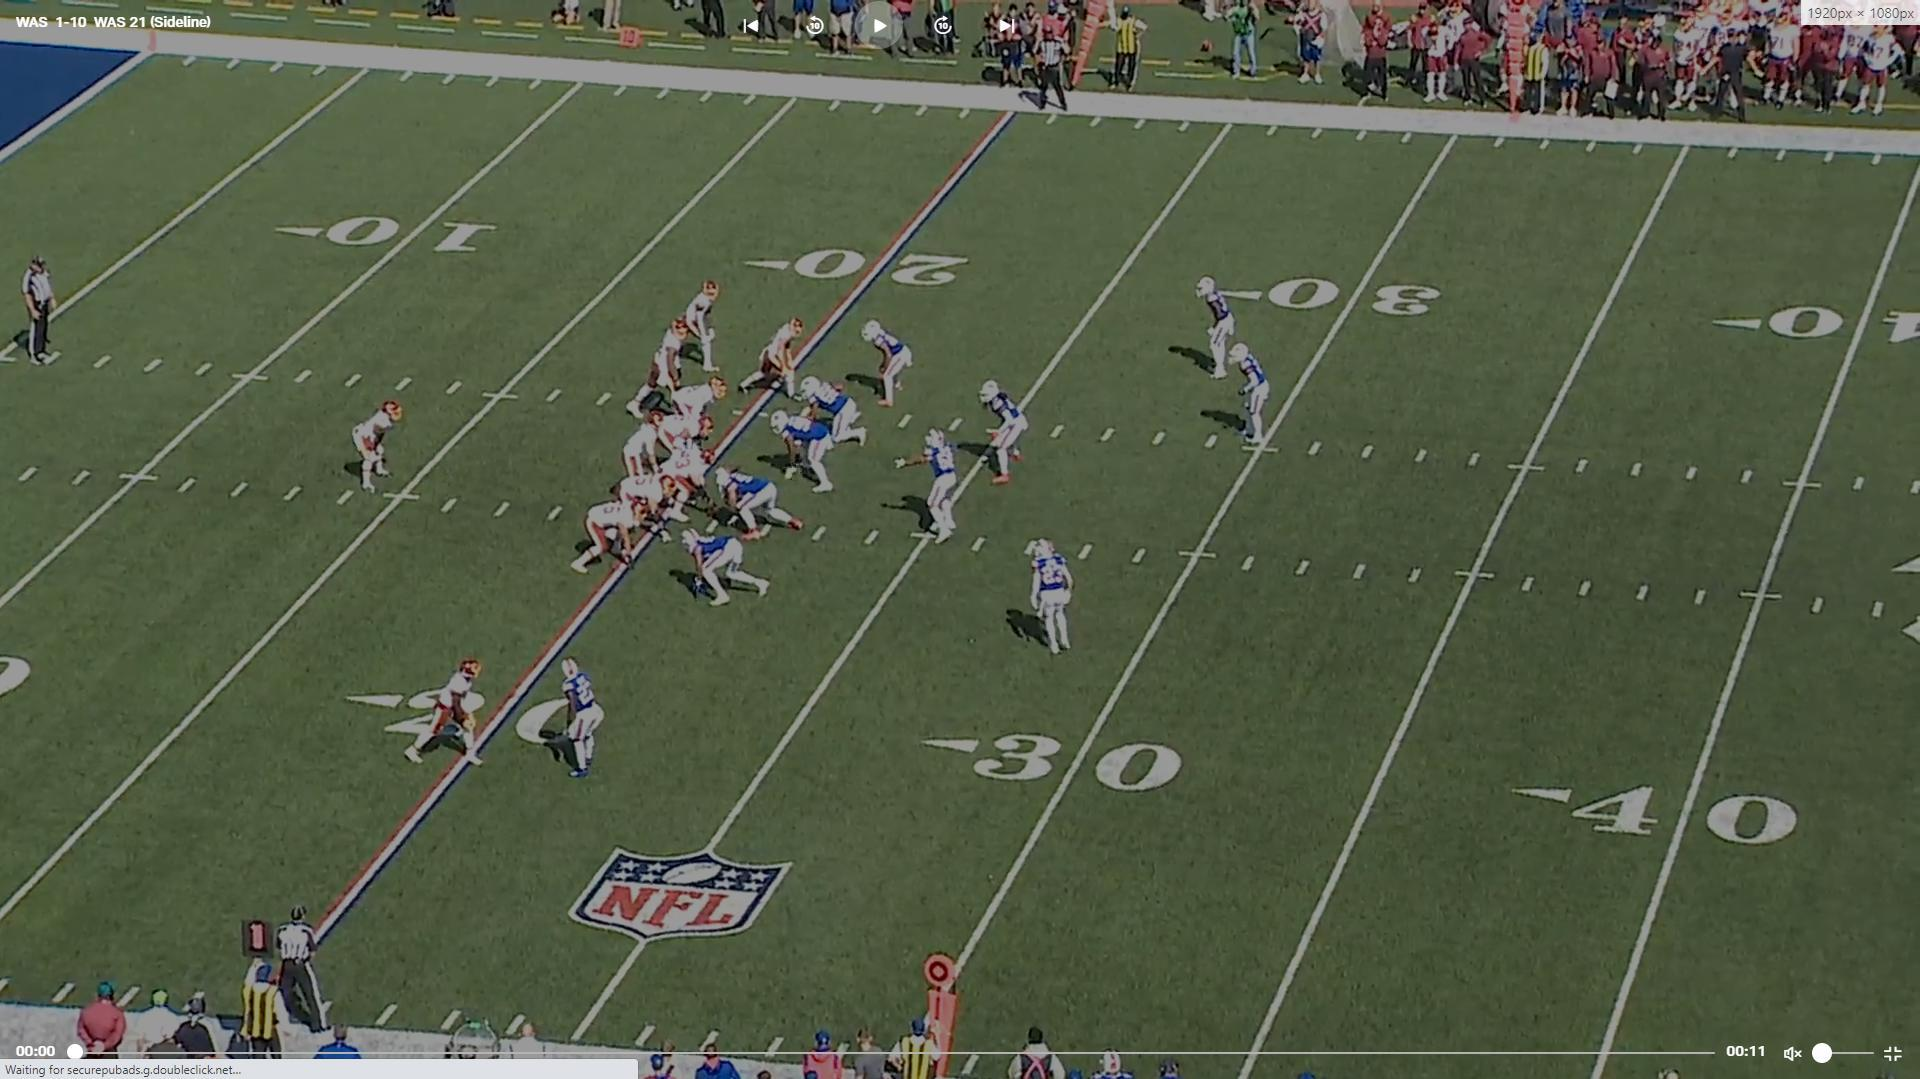defense: (678, 529, 770, 613), (558, 658, 613, 789), (711, 466, 803, 543), (911, 425, 967, 547), (1030, 536, 1081, 660), (985, 373, 1036, 487), (774, 409, 843, 493), (799, 376, 872, 454), (857, 317, 914, 412), (1191, 273, 1236, 381), (1233, 343, 1276, 448)
oline: (568, 496, 644, 579), (653, 442, 716, 518), (615, 474, 679, 546), (662, 381, 729, 437), (651, 408, 711, 458)
qb: (621, 412, 667, 492)
ref: (269, 898, 336, 1037), (12, 252, 65, 367), (1030, 24, 1076, 115)
skill: (406, 654, 491, 770), (621, 311, 694, 422), (740, 315, 808, 404), (348, 400, 405, 496), (686, 274, 729, 376)
